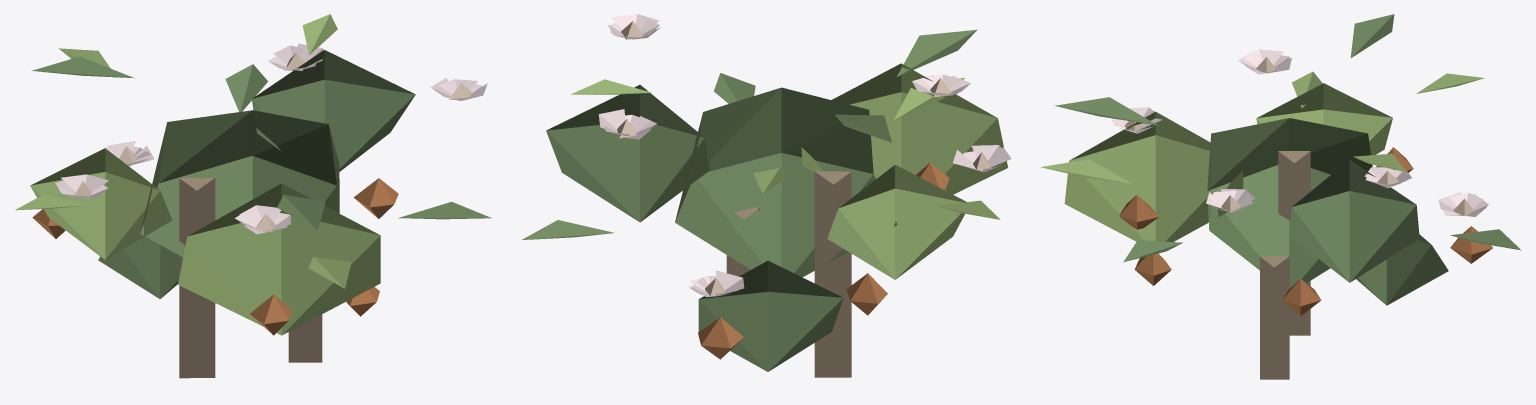
File: nong.da__summer.glb
3 views of the same model, side by side, from view 1: azimuth 30°, elevation 25°; view 2: azimuth 150°, elevation 25°; view 3: azimuth 270°, elevation 25° (orthographic). The views are drawn at different scales.
Visible parts, largest first — view 1: nong.da__summer; view 2: nong.da__summer; view 3: nong.da__summer.
Boxes of the visible parts, box(x1,y1,x2,y2) form: nong.da__summer: box(15, 14, 491, 378); nong.da__summer: box(522, 14, 1011, 377); nong.da__summer: box(1040, 14, 1520, 379).
Size of the model in its own units: 1.42 by 0.966 by 1.51.
